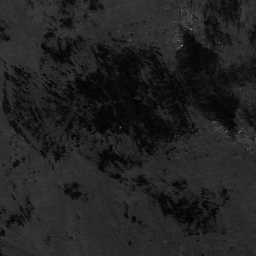Target: (117, 124, 123, 129)
